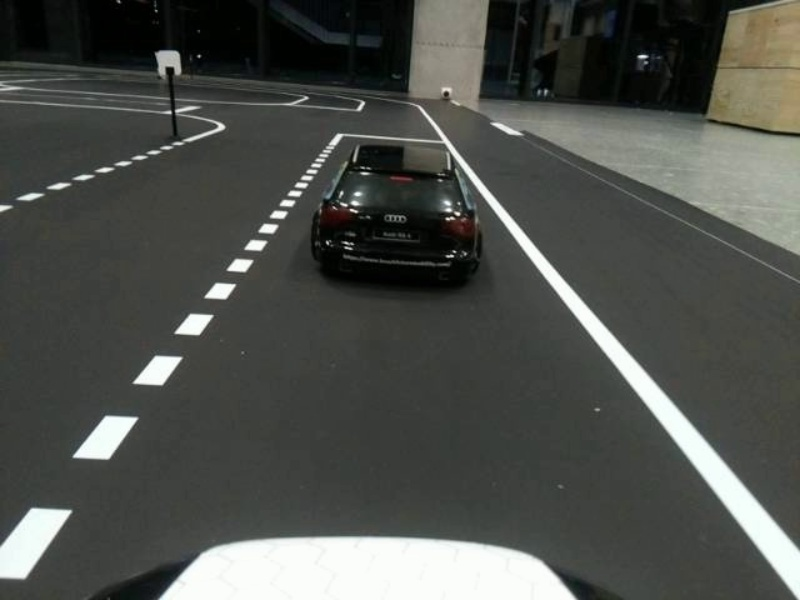car: (301, 132, 494, 293)
